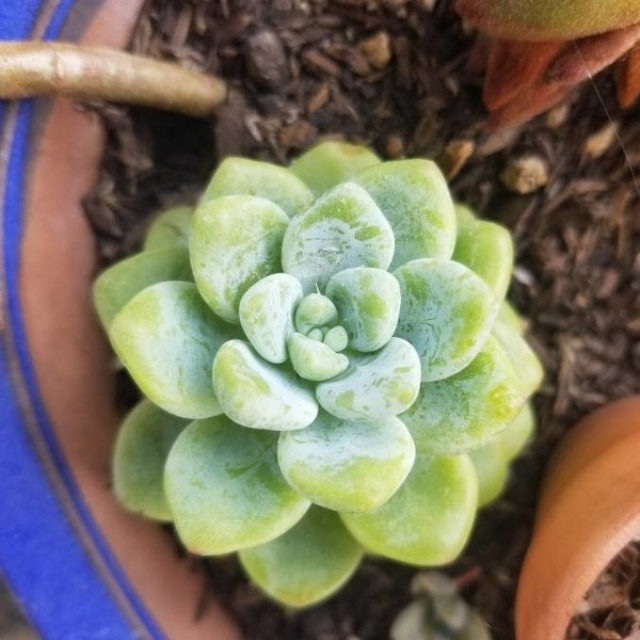obstacle: (73, 91, 548, 604)
